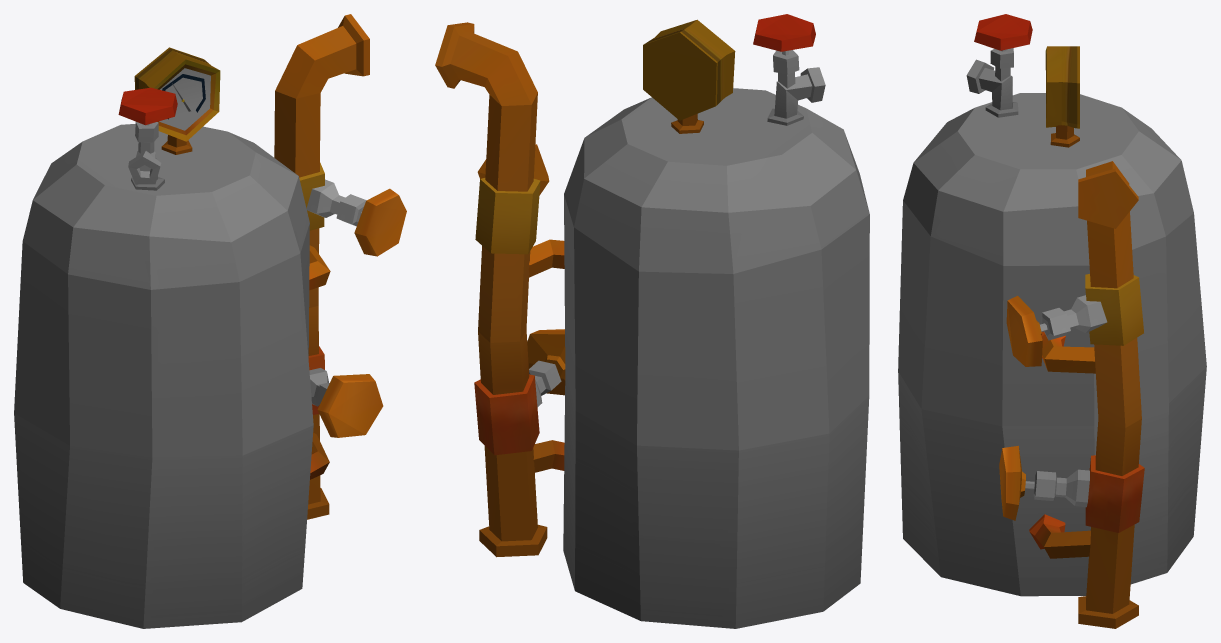
Rendered from Barrel.glb.
The picture shows the model from 3 angles, left to right: view 1: azimuth 30°, elevation 25°; view 2: azimuth 150°, elevation 25°; view 3: azimuth 270°, elevation 25°; orthographic projection. The views are drawn at different scales.
Visible parts, largest first — view 1: Barrel; view 2: Barrel; view 3: Barrel.
Part boxes in pixels (x1,y1,x2,y2): Barrel: [14, 14, 406, 628]; Barrel: [435, 14, 869, 628]; Barrel: [898, 14, 1206, 628].
Size of what is drawn, in the model's own units: 1.15 by 1.54 by 0.8614.
Materials: 1 (1 with a texture image).
